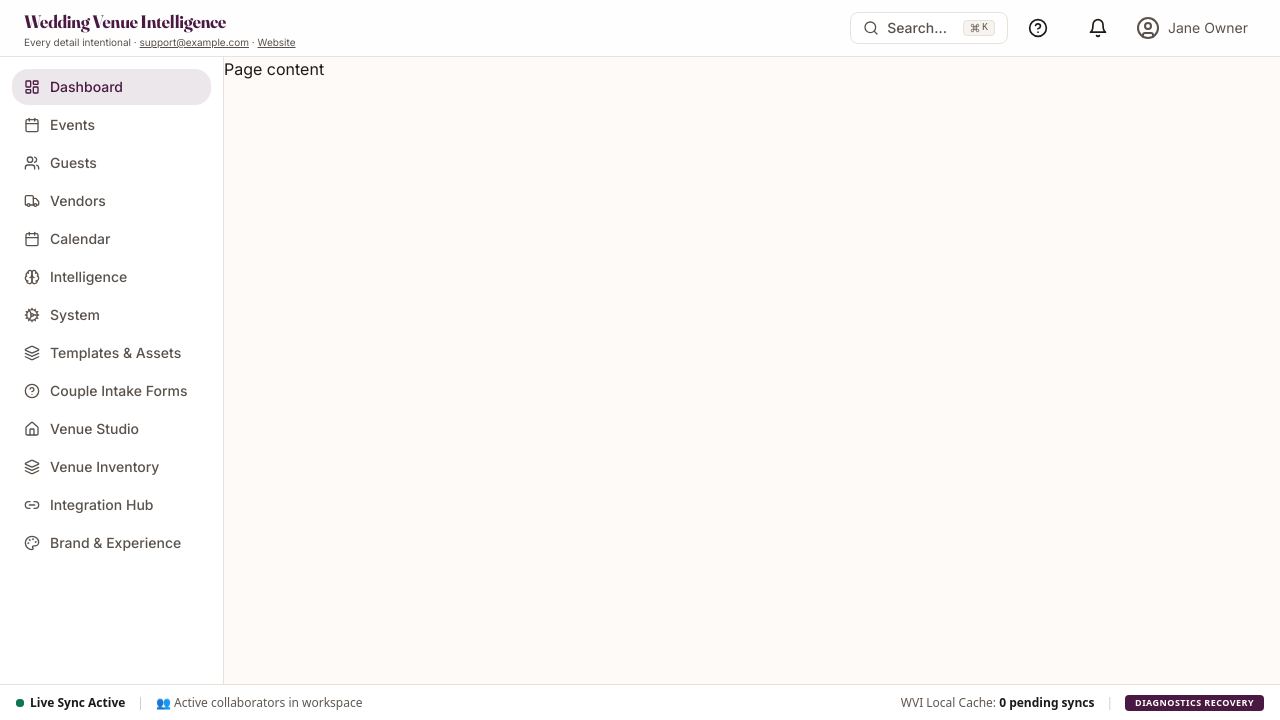
Scenario: AppShell › opens user menu on click
This screenshot has width=1280, height=720.
Click the button with aria-label "user menu for jane owner": (1192, 28) [1128, 10, 1256, 46]
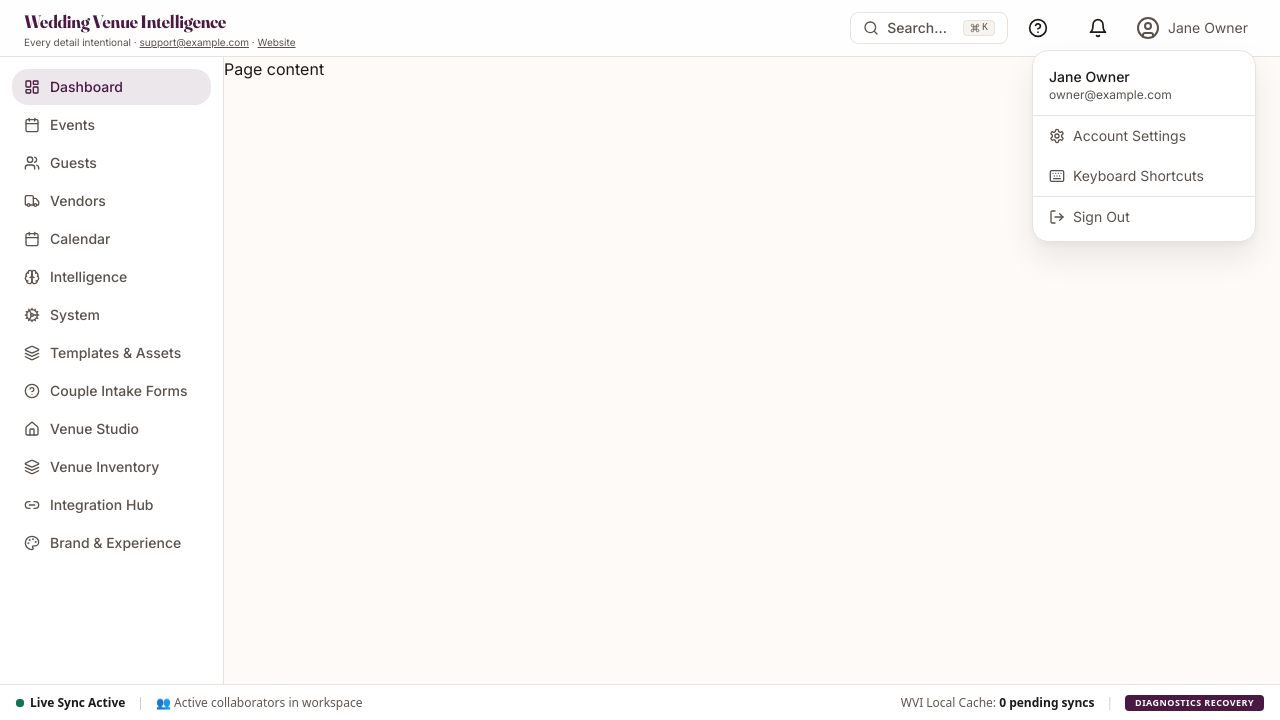
Expected: the menu is shown, [1032, 50, 1256, 242]
